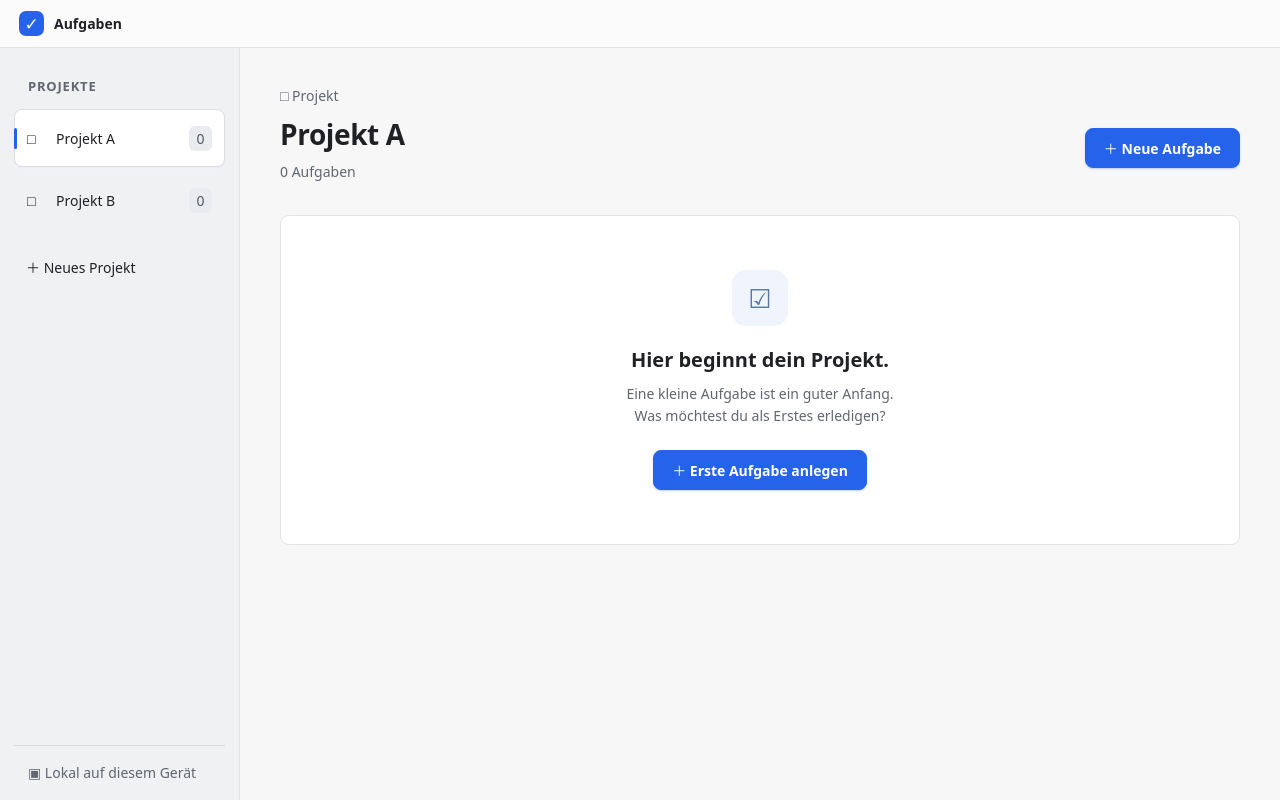
it: deaktiviert den Projektwechsel während eines Speichervorgangs
The width and height of the screenshot is (1280, 800).
expect the heading "Projekt A" is shown: met, box [280,115,405,153]
Step 1. Click the button "＋ Neue Aufgabe" → (1162,148), box [1085,128,1240,168]
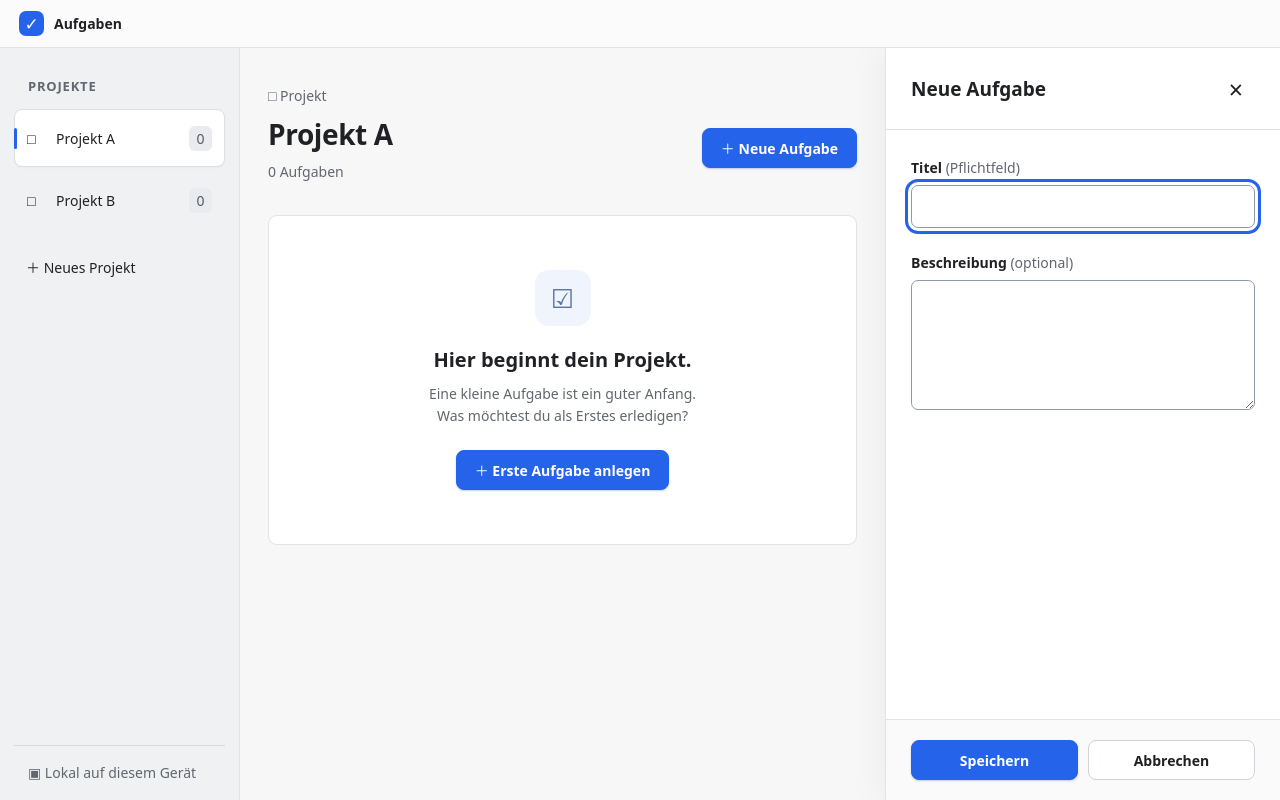
Step 2. Type "Neue Aufgabe" into the field labelled "Titel (Pflichtfeld)" → (1083,206), box [911,185,1255,228]
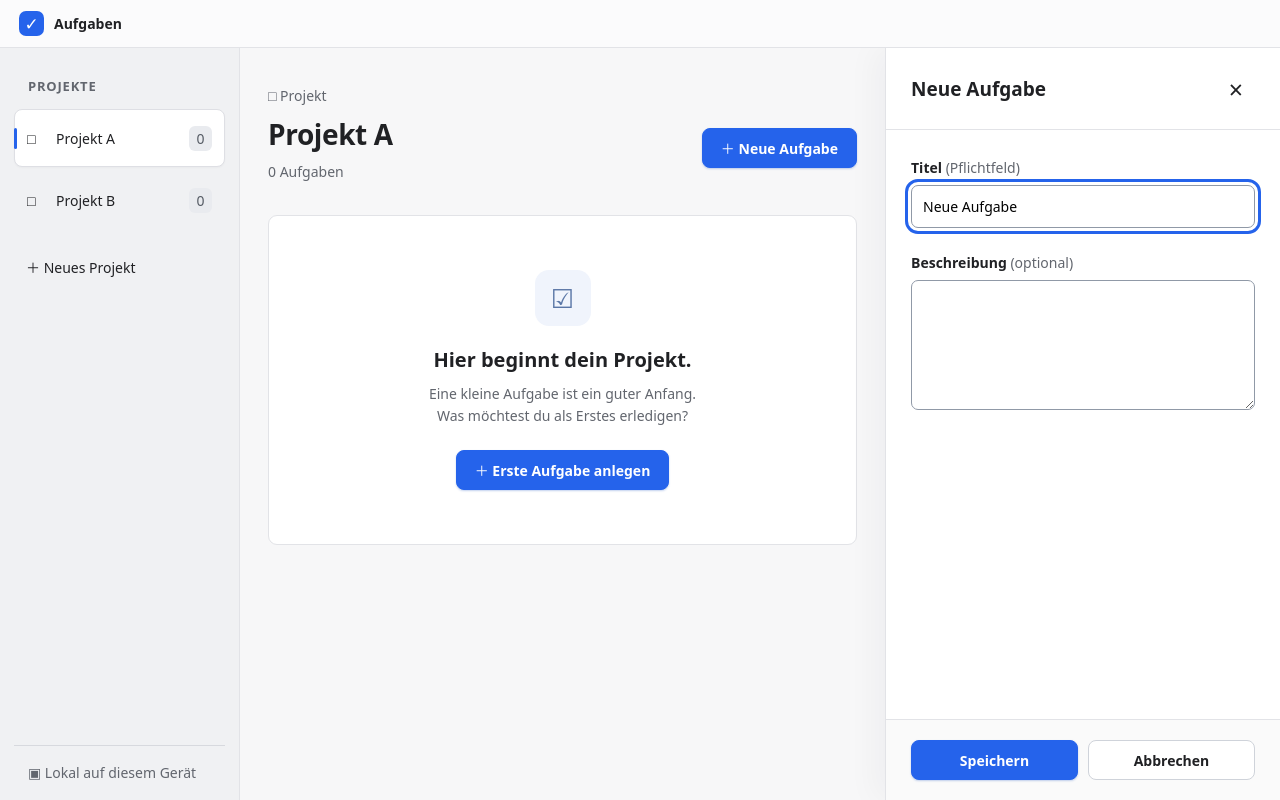
Step 3. Click the button "Speichern" → (994,760), box [911,740,1078,780]
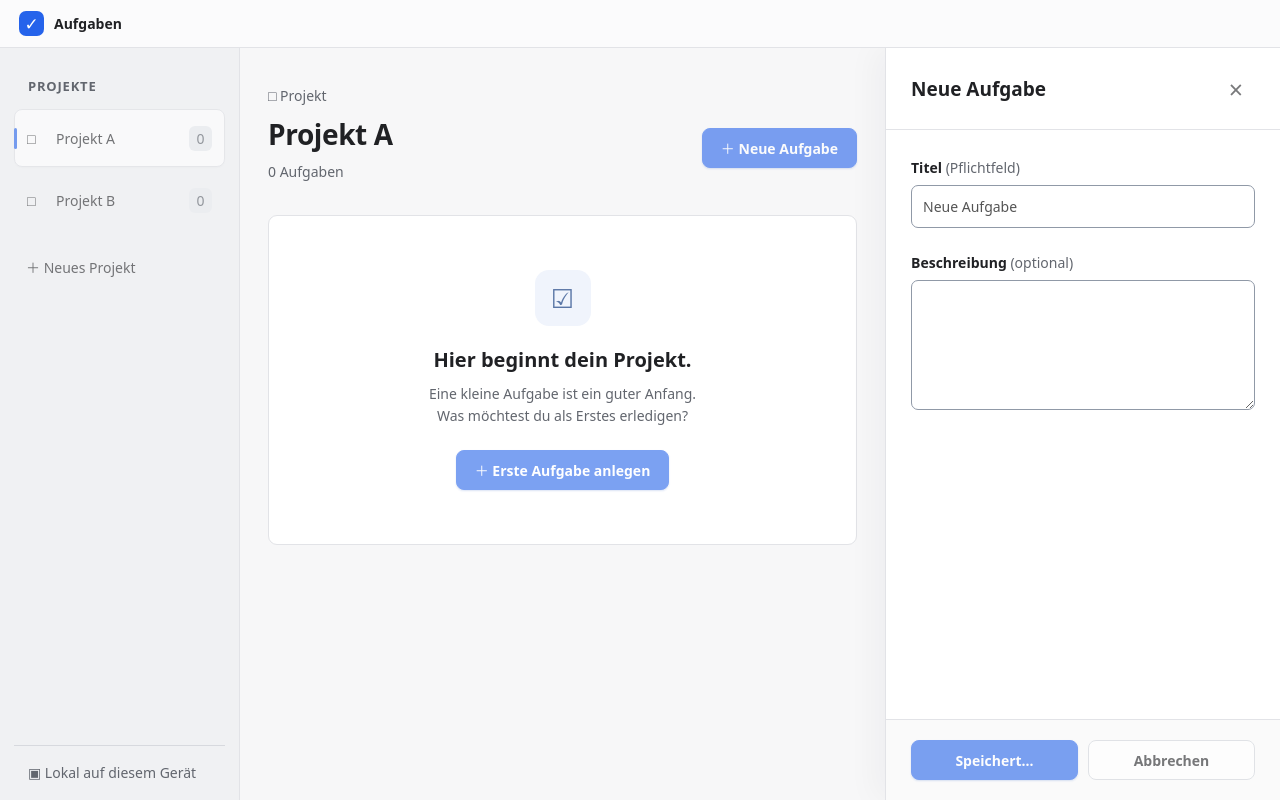
expect the button "□ Projekt B 0" is disabled: met, box [14,171,225,229]
